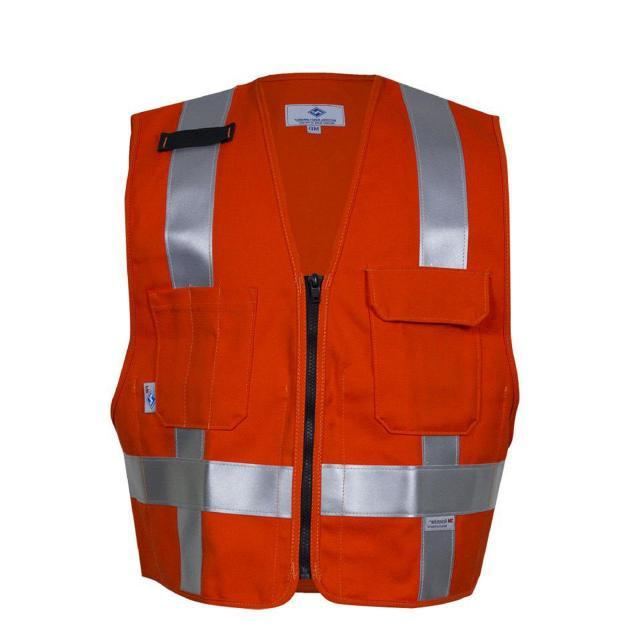construction-vest: (132, 84, 502, 602)
